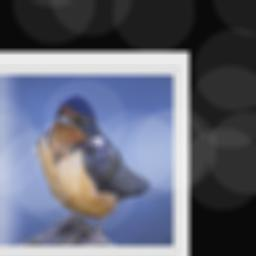Swallow: (32, 90, 168, 242)
